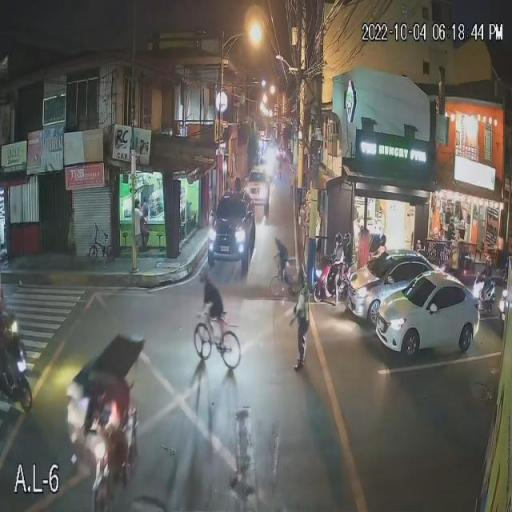helmet: (482, 262, 494, 272), (336, 238, 346, 246)
motorcycle: (0, 312, 33, 416), (475, 258, 506, 322), (313, 256, 351, 306)
rider: (328, 231, 351, 299), (0, 302, 20, 372), (481, 252, 506, 304)
